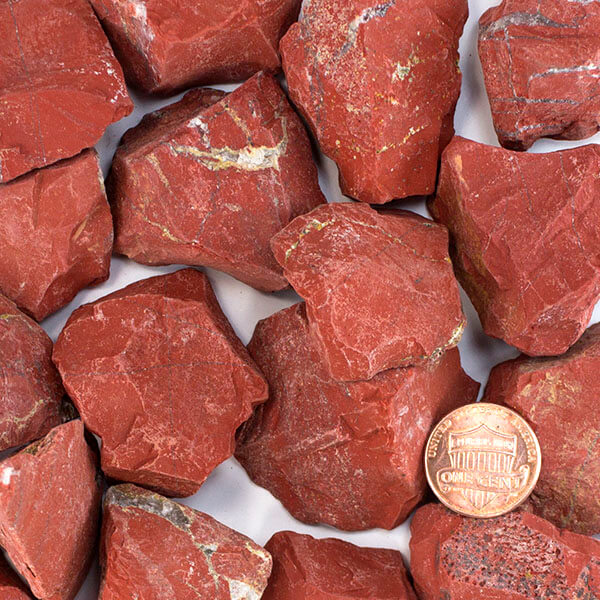Red_Jasper: (2, 2, 412, 591), (437, 141, 600, 354), (475, 2, 600, 143)
